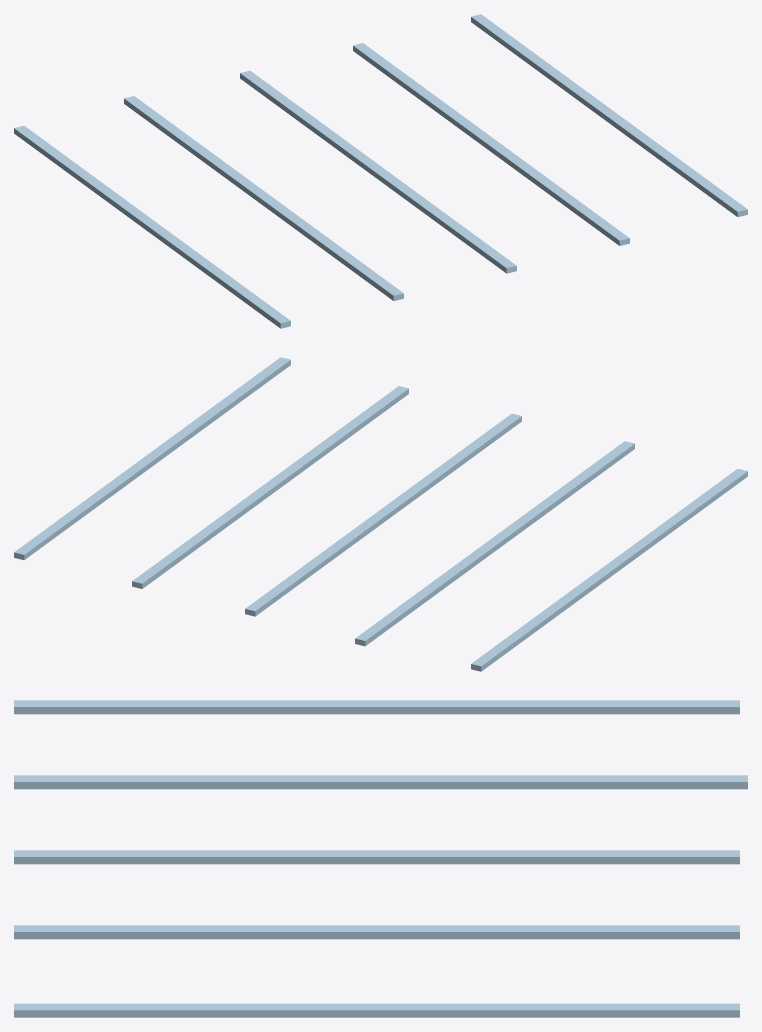
File: Lab lighting.obj
3 renders of one model, top to bottom at view 1: azimuth 30°, elevation 25°; view 2: azimuth 150°, elevation 25°; view 3: azimuth 270°, elevation 25°, orthographic. The views are drawn at different scales.
Bounding box in the file's own units: 91 × 1 × 91.
1 material, 1 textured.
